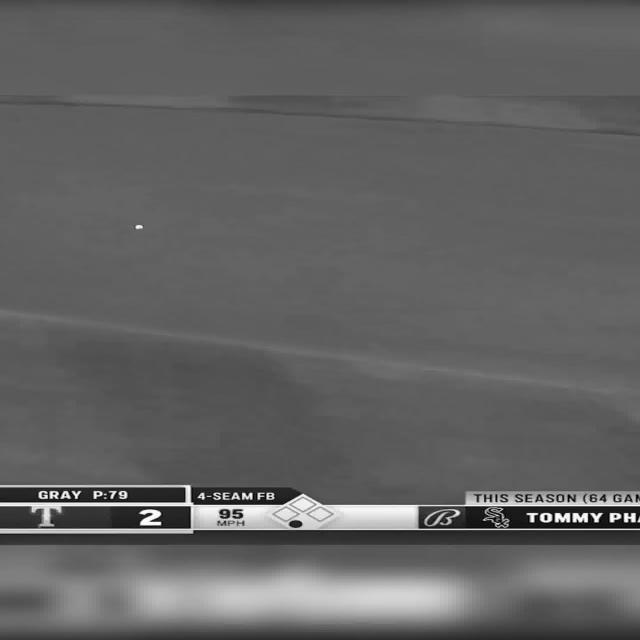baseball: (134, 224, 144, 230)
